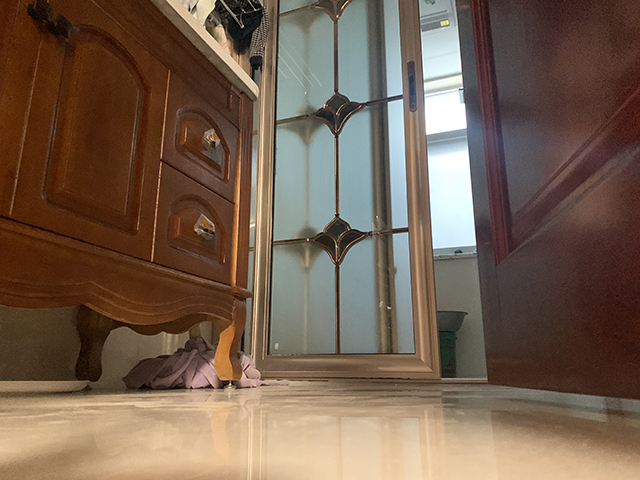cabinet: (1, 1, 261, 390)
